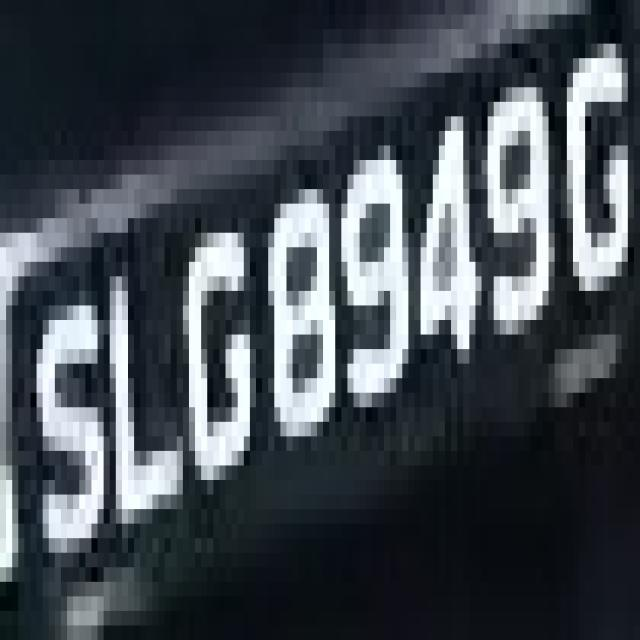4: (384, 72, 494, 392)
8: (250, 160, 341, 465)
9: (329, 146, 421, 437), (463, 58, 542, 335)
G: (542, 29, 628, 364), (177, 204, 256, 538)
L: (91, 247, 189, 538)
S: (30, 262, 116, 625)
